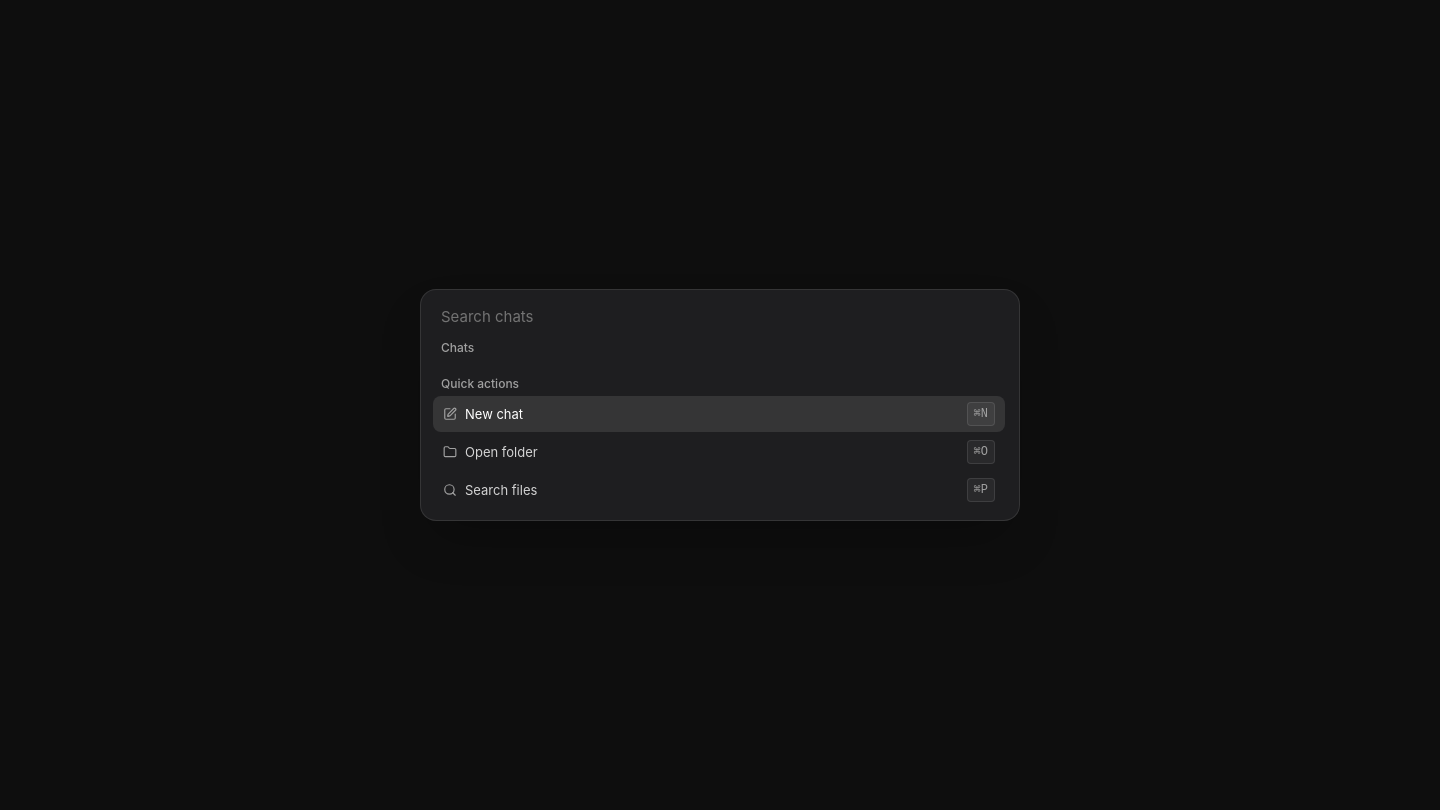
Test: ChatSearchModal › searches content keyword and displays snippet
Step 1. Type "shell" into the field with placeholder "Search chats" → {"x": 720, "y": 317}, box [441,306,999,328]
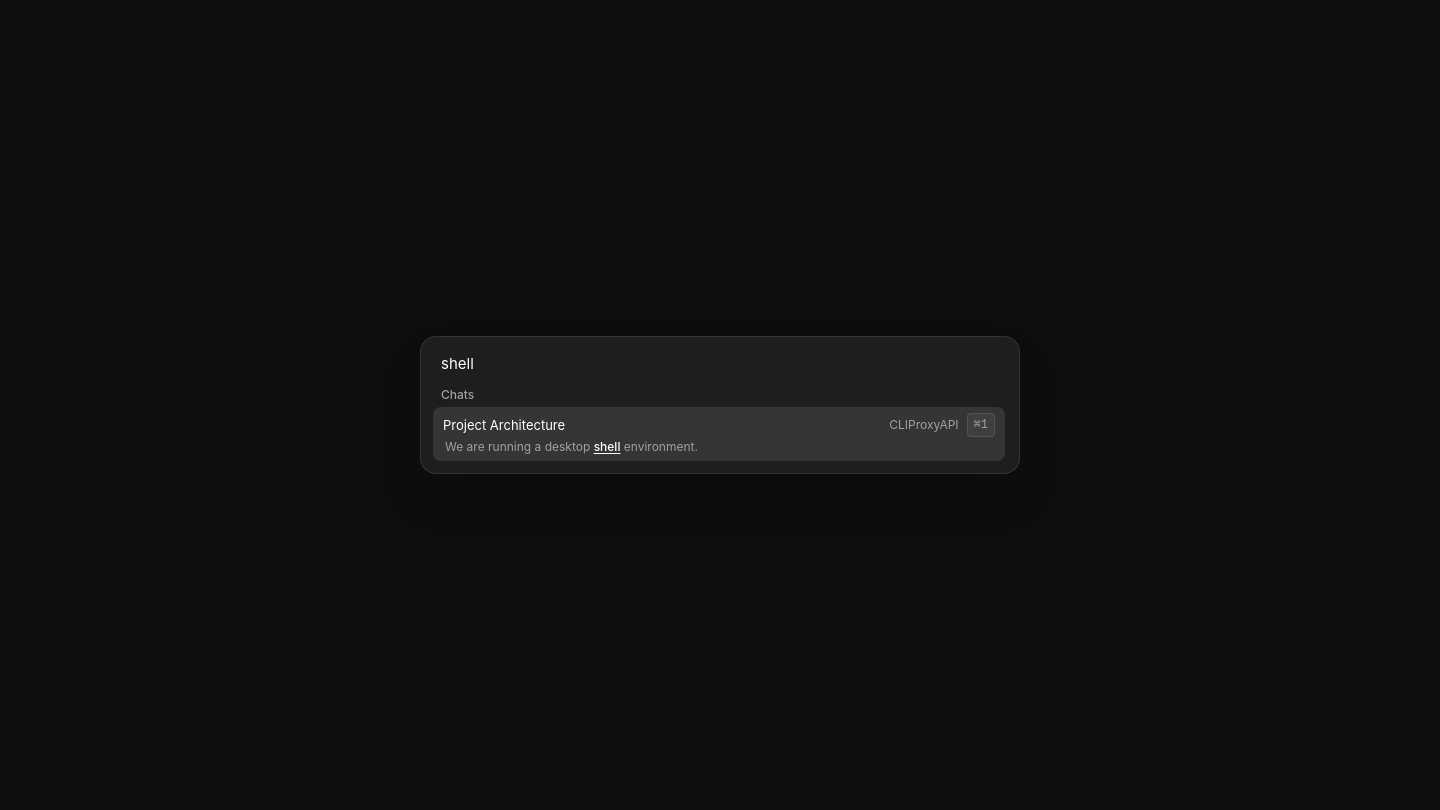
Expected: the text "Project Architecture" is shown, [443,416,565,432]
Expected: the text "We are running a desktop" is shown, [445,439,594,454]
Expected: the text "shell" is shown, [594,439,620,454]
